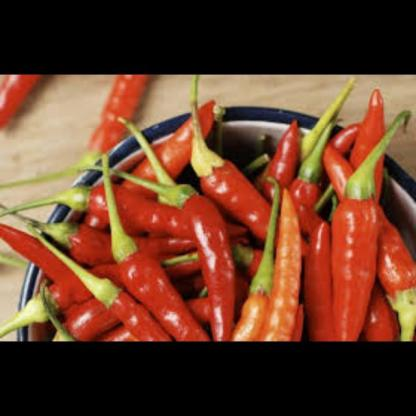hot pepper: (2, 90, 415, 342), (53, 75, 159, 185), (0, 76, 44, 136)
